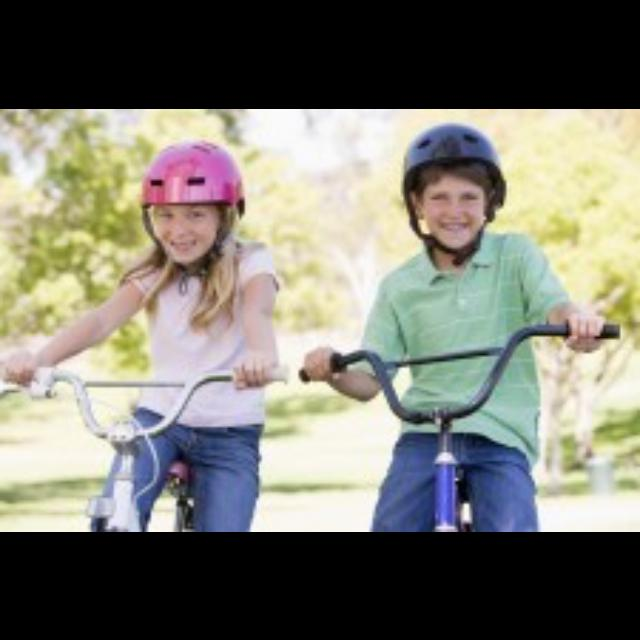With Helmet: (392, 110, 510, 256)
